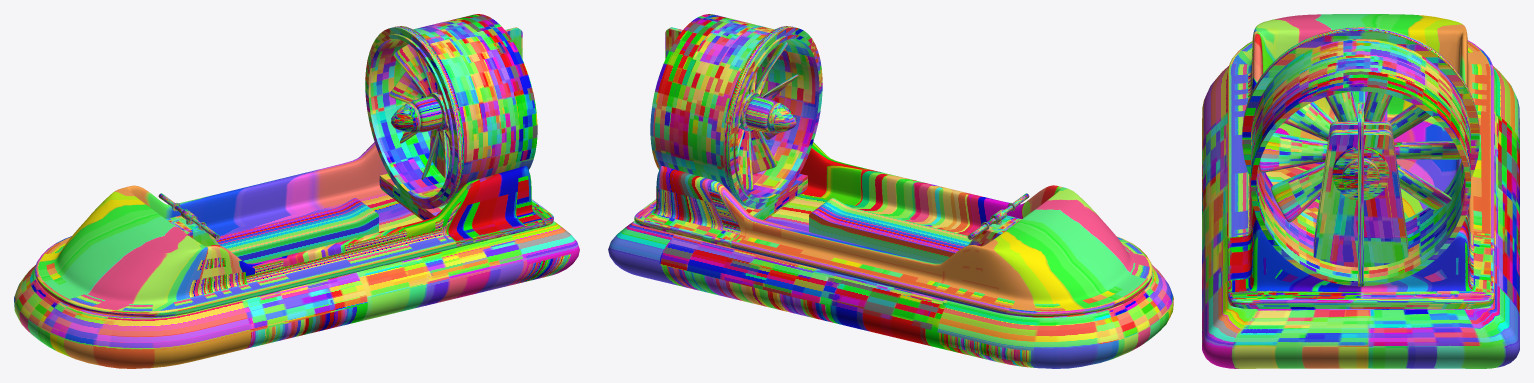
The model's file is vznasedlo.obj.
The picture shows the model from 3 angles, left to right: view 1: azimuth 30°, elevation 25°; view 2: azimuth 150°, elevation 25°; view 3: azimuth 270°, elevation 25°; orthographic projection. The views are drawn at different scales.
Visible parts, largest first — view 1: subdivCube1, subdivCube2, polySurface1, pCube5, polySurface3, polySurface2, pCube3; view 2: subdivCube1, subdivCube2, polySurface1, pCube5, polySurface3, polySurface2, pCube3; view 3: subdivCube1, subdivCube2, polySurface1, polySurface3, pCube4, polySurface2, pCube1, pCube2.
Boxes of the visible parts, box(x1,y1,x2,y2) form: subdivCube1: box(34, 142, 553, 317); subdivCube2: box(14, 221, 579, 368); polySurface1: box(366, 14, 537, 202); pCube5: box(166, 198, 378, 263); polySurface3: box(389, 44, 450, 179); polySurface2: box(365, 26, 464, 208); pCube3: box(379, 173, 447, 220); subdivCube1: box(634, 142, 1152, 317); subdivCube2: box(608, 221, 1173, 368); polySurface1: box(650, 14, 821, 202); pCube5: box(809, 198, 1021, 263); polySurface3: box(737, 42, 798, 190); polySurface2: box(723, 26, 822, 208); pCube3: box(739, 174, 807, 220); subdivCube1: box(1227, 14, 1494, 308); subdivCube2: box(1202, 66, 1519, 368); polySurface1: box(1251, 39, 1470, 285); polySurface3: box(1259, 91, 1461, 226); pCube4: box(1313, 129, 1408, 267); polySurface2: box(1242, 27, 1479, 178); pCube1: box(1358, 103, 1363, 286); pCube2: box(1313, 121, 1408, 246).
Size of the model in its own units: 5.43 by 2.38 by 2.38.
1 material, 1 textured.
